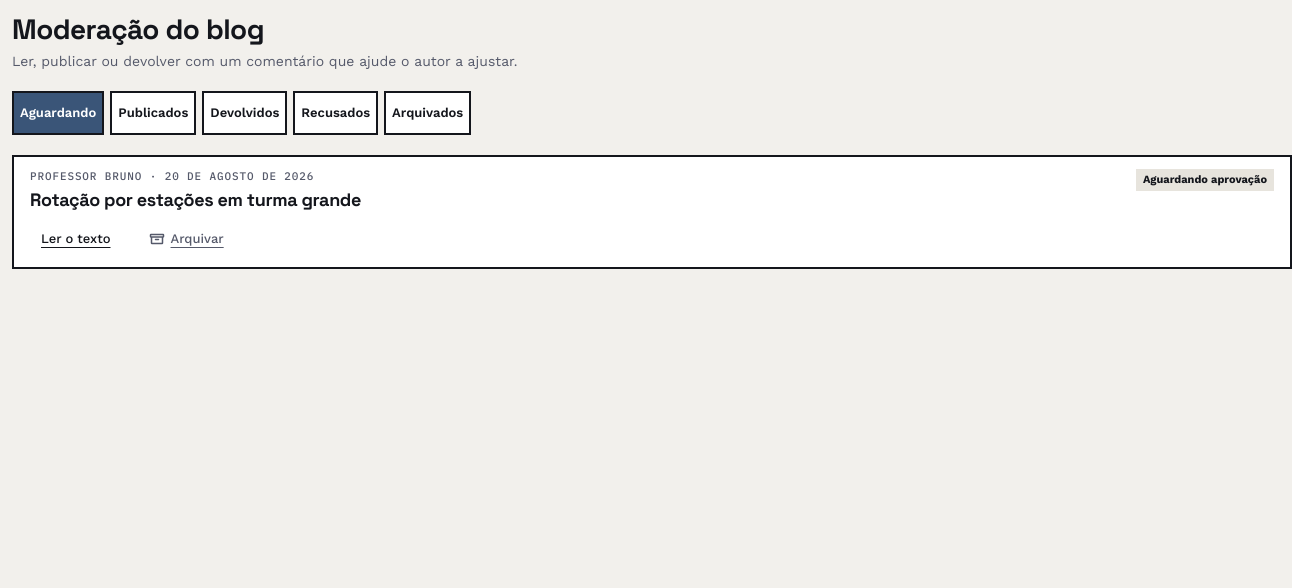
Test: PaginaModeracao › recusa devolver sem comentário, antes de tocar na rede
Check: the heading "Rotação por estações em turma grande" is shown, box 30,189 -> 361,212
Step 1. Click the button "Ler o texto" → (76, 240), box 30,224 -> 122,256
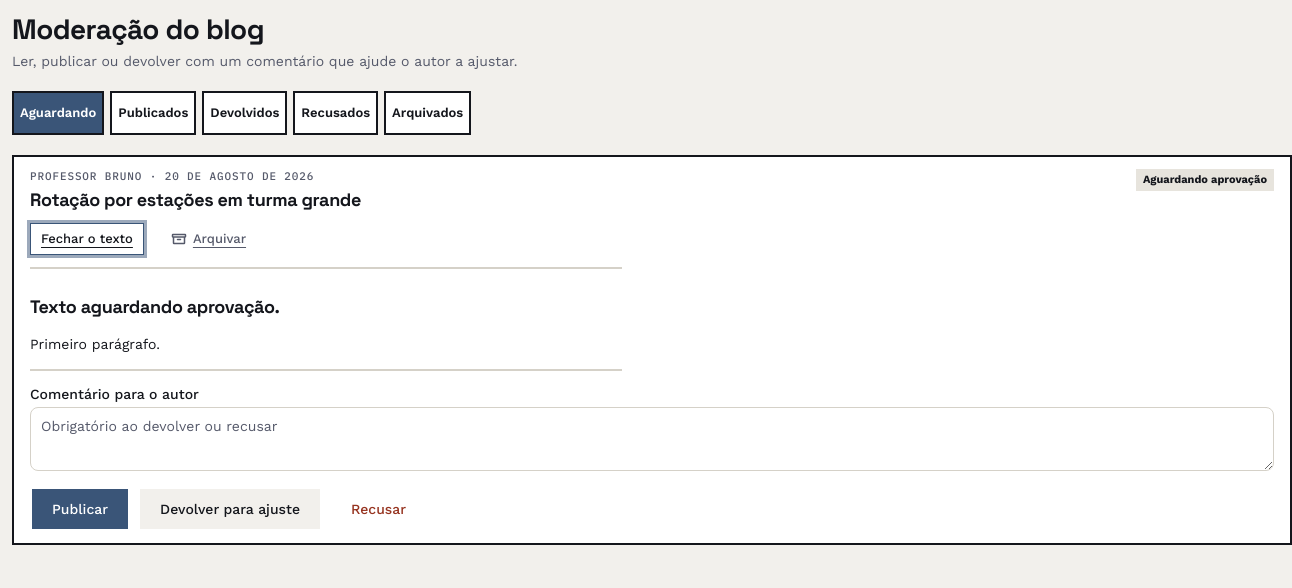
Step 2. Click the button "Devolver para ajuste" → (230, 509), box 138,487 -> 322,531
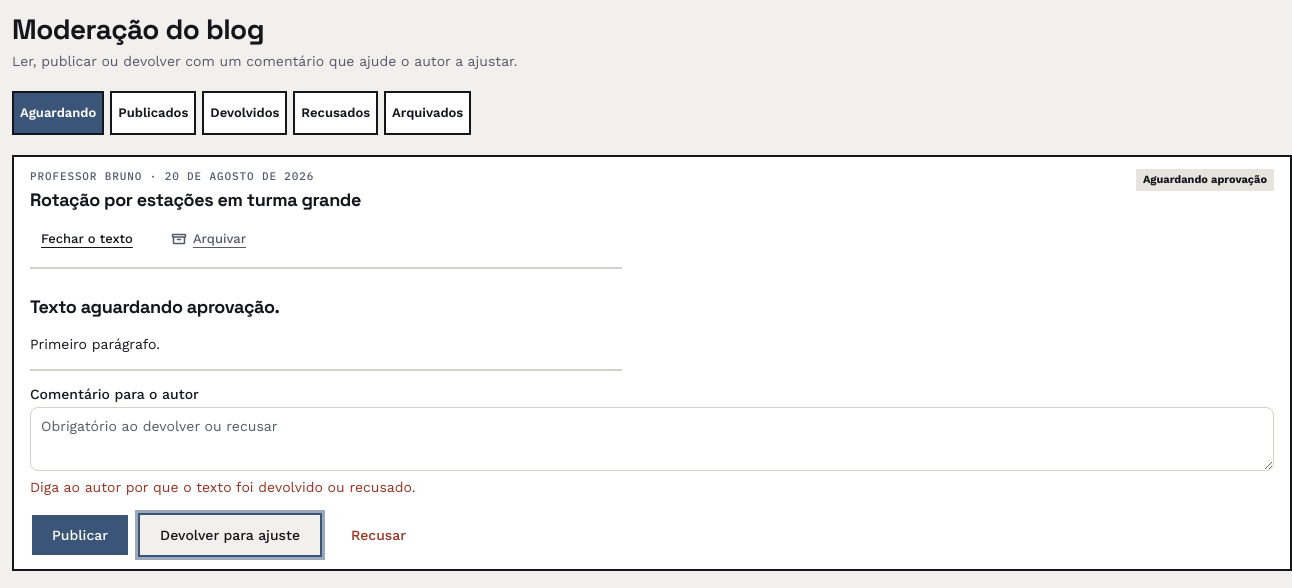
Check: the text "Diga ao autor por que o texto foi devolvido ou recusado." is shown, box 30,479 -> 415,495
